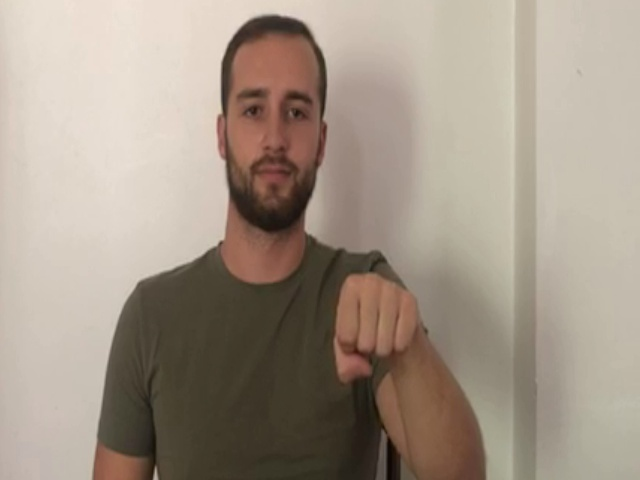Da: (330, 271, 421, 386)
